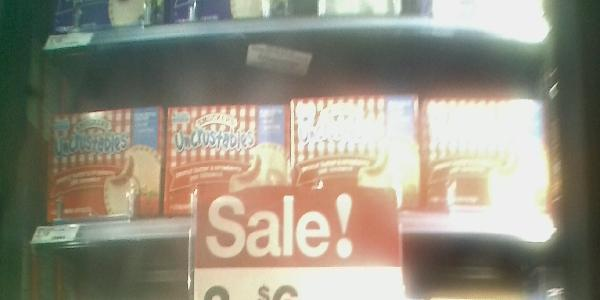icecream: (291, 94, 420, 211), (423, 95, 545, 212), (165, 103, 289, 215), (46, 105, 162, 217)
